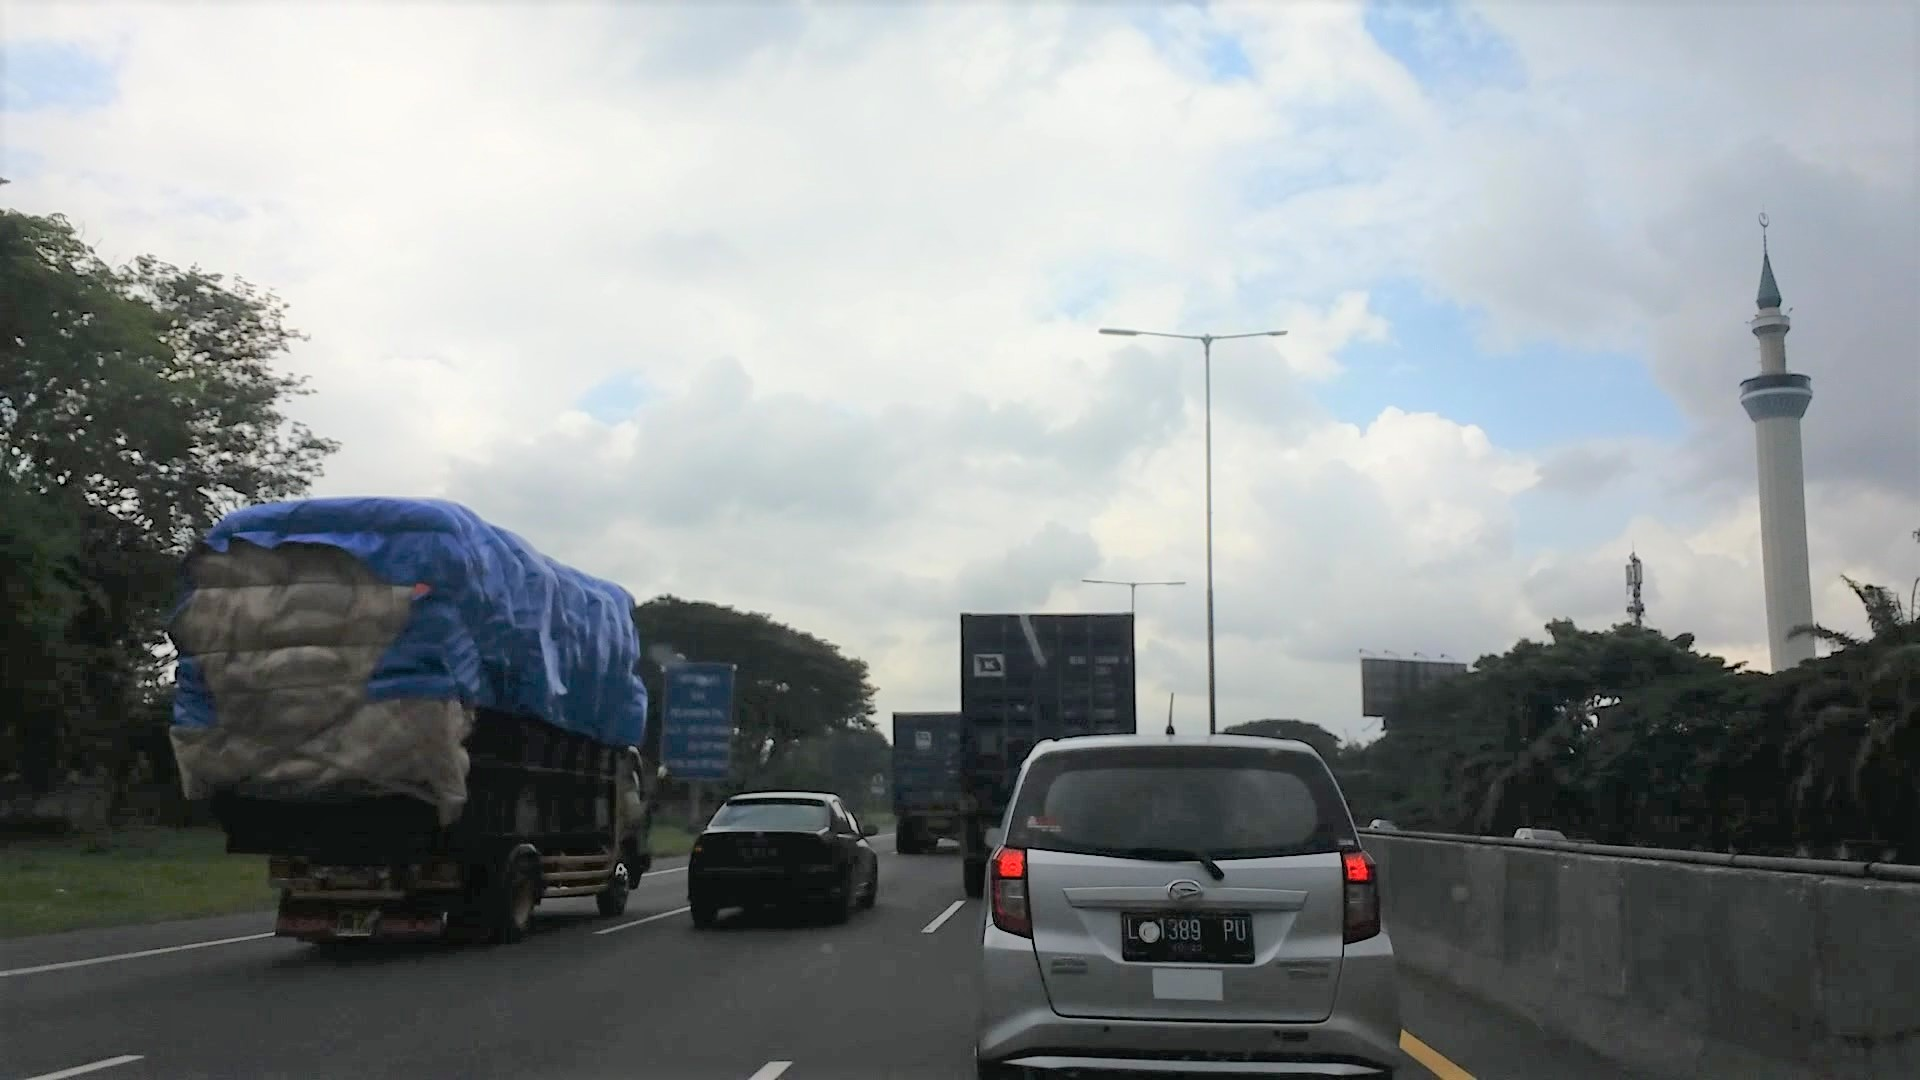plate_positive: (1122, 909, 1254, 964)
